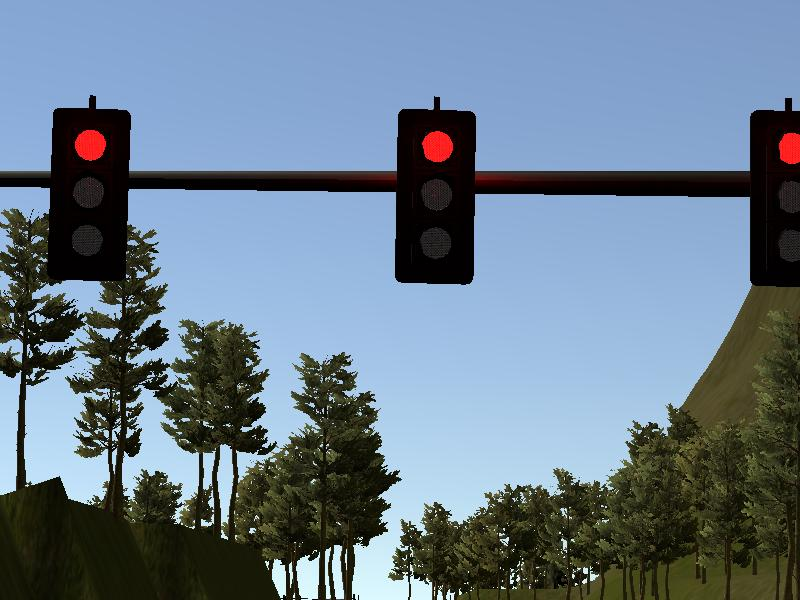red: (48, 106, 131, 283), (395, 108, 476, 286), (749, 107, 800, 288)
